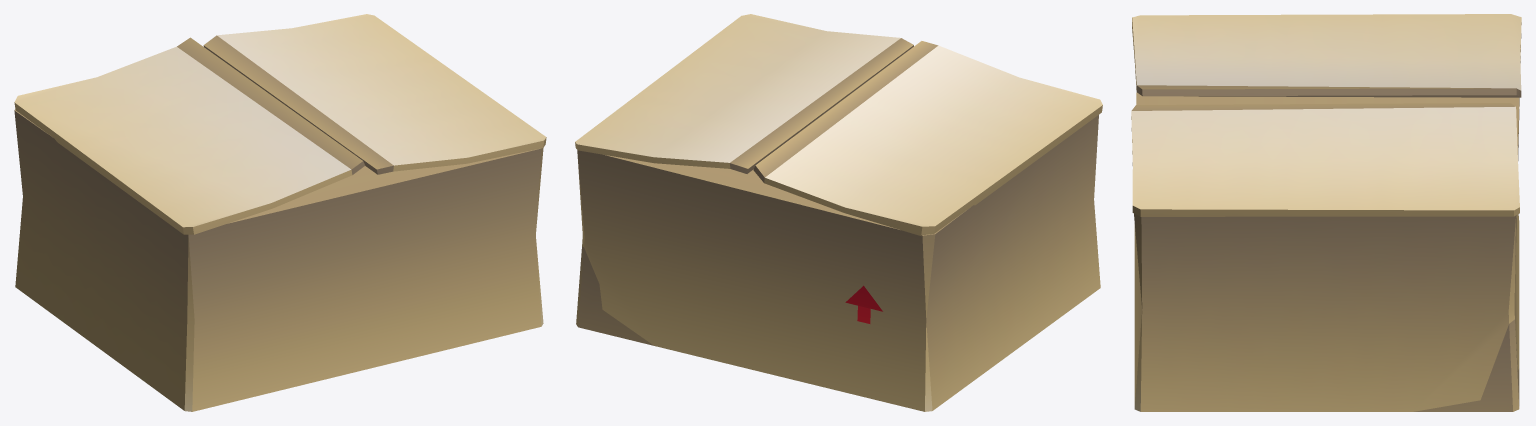
File: Luggage_Pack_1B.fbx
3 renders of one model, left to right at view 1: azimuth 30°, elevation 25°; view 2: azimuth 150°, elevation 25°; view 3: azimuth 270°, elevation 25°, orthographic. The views are drawn at different scales.
Parts seen in each view (by area): view 1: Luggage_Pack_1B; view 2: Luggage_Pack_1B; view 3: Luggage_Pack_1B.
Boxes of the visible parts, x1,y1,x2,y2 form: Luggage_Pack_1B: [14, 14, 546, 411]; Luggage_Pack_1B: [575, 14, 1102, 411]; Luggage_Pack_1B: [1131, 14, 1521, 411].
Bounding box in the file's own units: 228 × 123 × 193.
